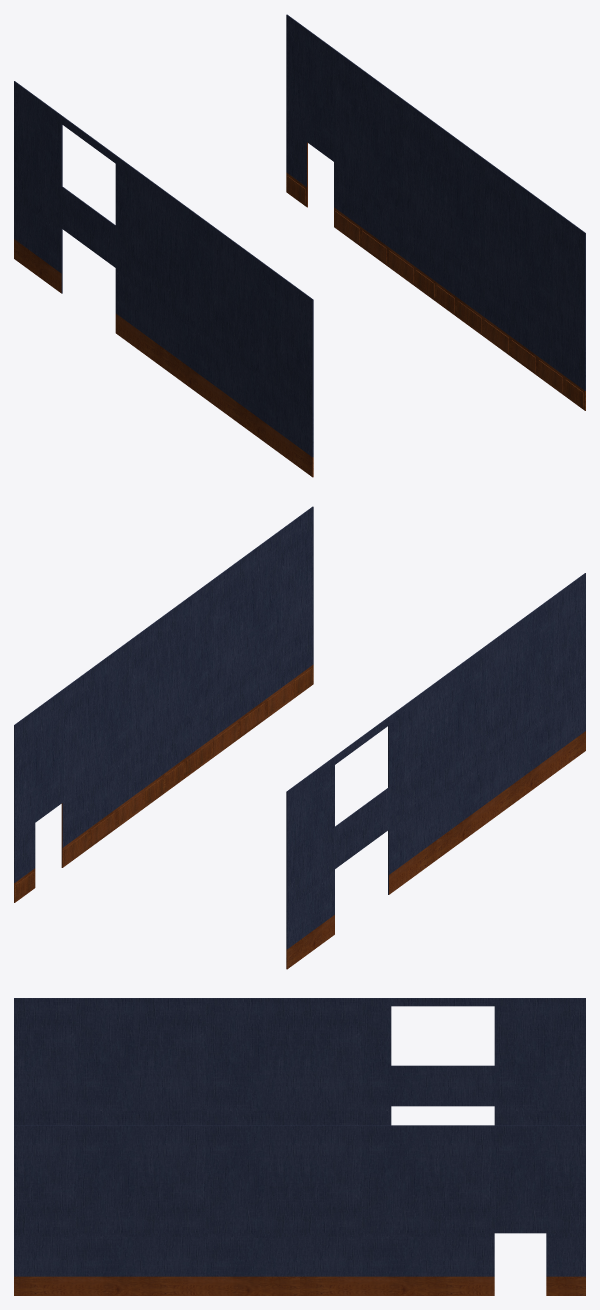
The model's file is MainHallWalls.fbx.
3 renders of one model, top to bottom at view 1: azimuth 30°, elevation 25°; view 2: azimuth 150°, elevation 25°; view 3: azimuth 270°, elevation 25°, orthographic. The views are drawn at different scales.
Parts seen in each view (by area): view 1: Wall.014, Wall; view 2: Wall.014, Wall; view 3: Wall.014, Wall.
Boxes of the visible parts, x1,y1,x2,y2 form: Wall.014: [286, 14, 585, 410]; Wall: [14, 81, 313, 477]; Wall.014: [14, 506, 313, 902]; Wall: [286, 573, 585, 969]; Wall.014: [14, 1125, 585, 1295]; Wall: [14, 998, 585, 1125].
Size of the model in its own units: 1815 by 1128 by 3436.
